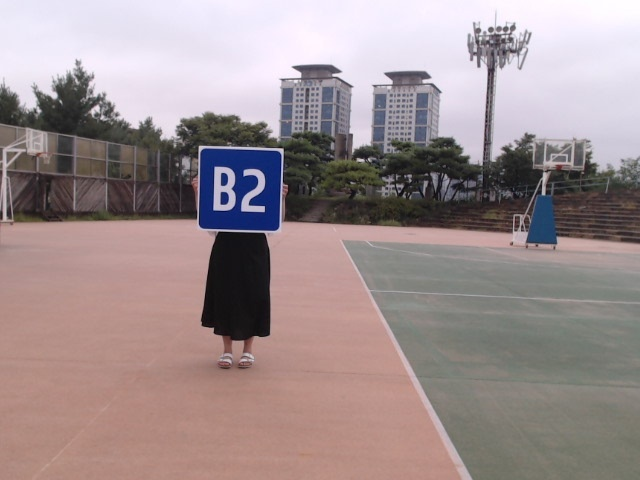delivery_b2: (197, 147, 283, 232)
